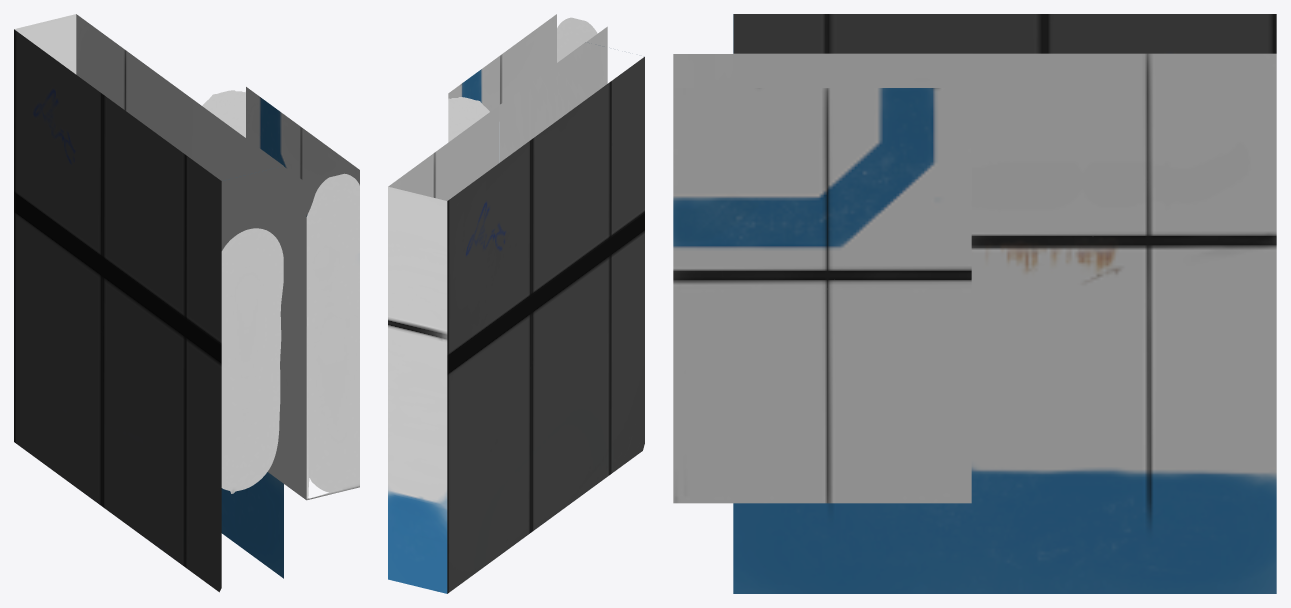
Rendered from window4.obj.
3 views of the same model, side by side, from view 1: azimuth 30°, elevation 25°; view 2: azimuth 150°, elevation 25°; view 3: azimuth 270°, elevation 25° (orthographic). The views are drawn at different scales.
Parts seen in each view (by area): view 1: window4; view 2: window4; view 3: window4.
Part boxes in pixels (left/top/right/bottom): window4: left=14, top=14, right=359, bottom=592; window4: left=388, top=14, right=644, bottom=593; window4: left=673, top=14, right=1276, bottom=593.
Bounding box in the file's own units: 4.32 × 14.77 × 14.95.
